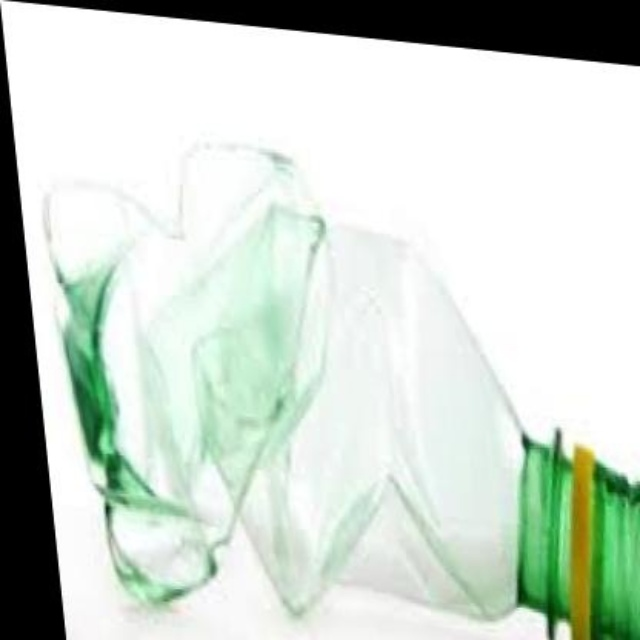trash: (43, 140, 522, 638), (45, 142, 325, 603)
